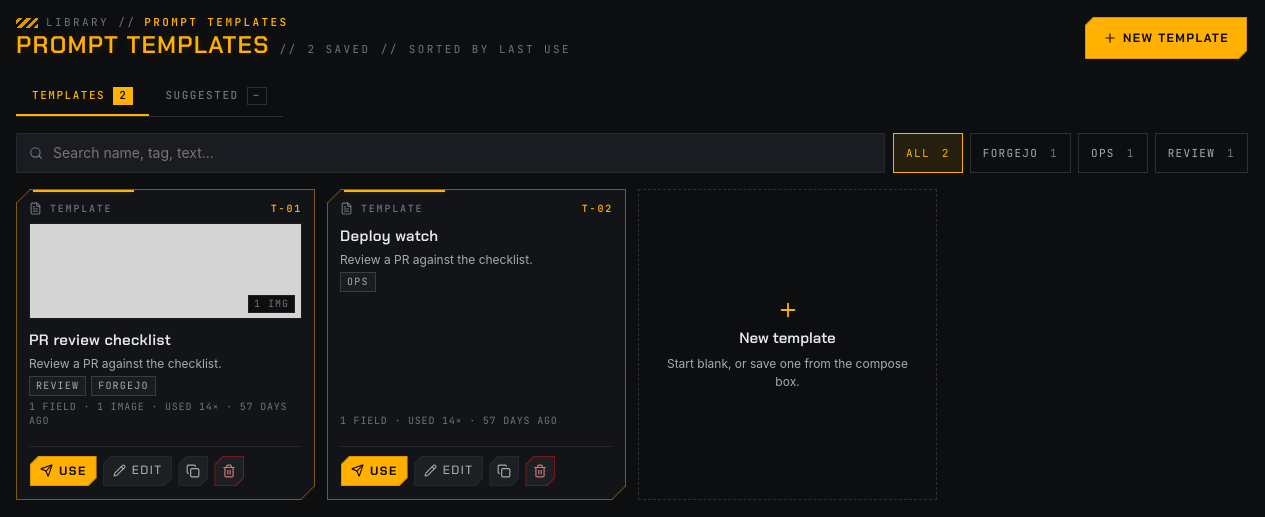
Test: a tag chip and the search each narrow the grid; the chips keep their counts
Check: the list named "templates" is shown, box [16,189,937,500]
Click the button "ops 1". click: (1113, 153)
box: [1078,133,1148,173]
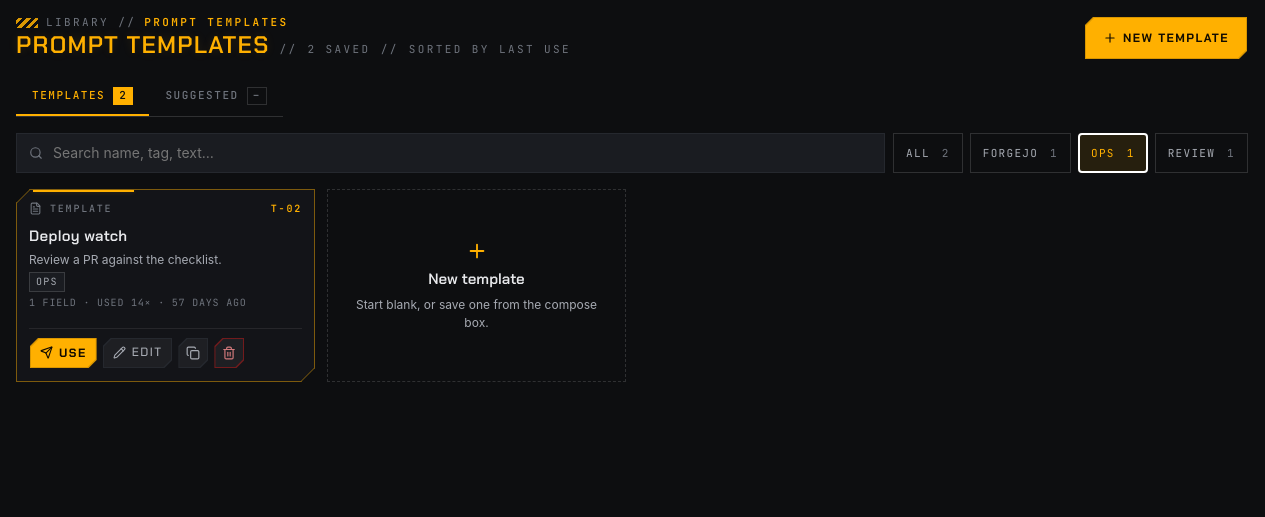
Check: the link "Deploy watch" is shown, box [29,226,128,246]
Check: the button "review 1" is shown, box [1155,133,1248,173]
Click the button "ops 1". click: (1113, 153)
box: [1078,133,1148,173]
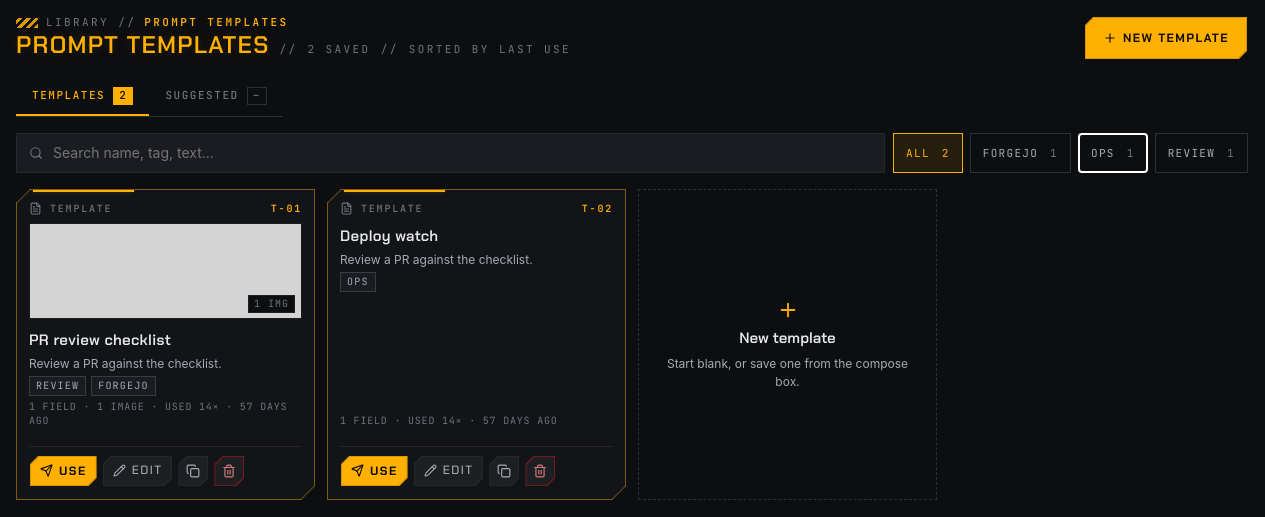
# Both fixtures share a body, so search on the one thing that differs: the name.
Type "pr review" into the search field named "search templates". click: (462, 153)
box: [51,142,872,164]
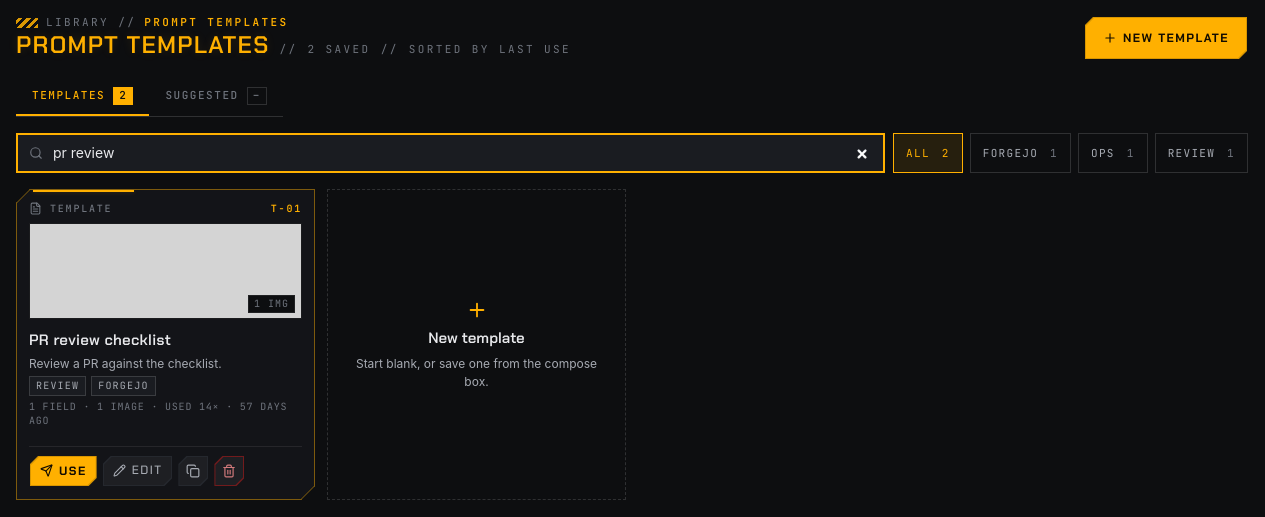
Check: the link "PR review checklist" is shown, box [29,330,171,350]
Replace the text in the search field named "search templates" with "zzz". click: (462, 153)
box: [51,142,872,164]
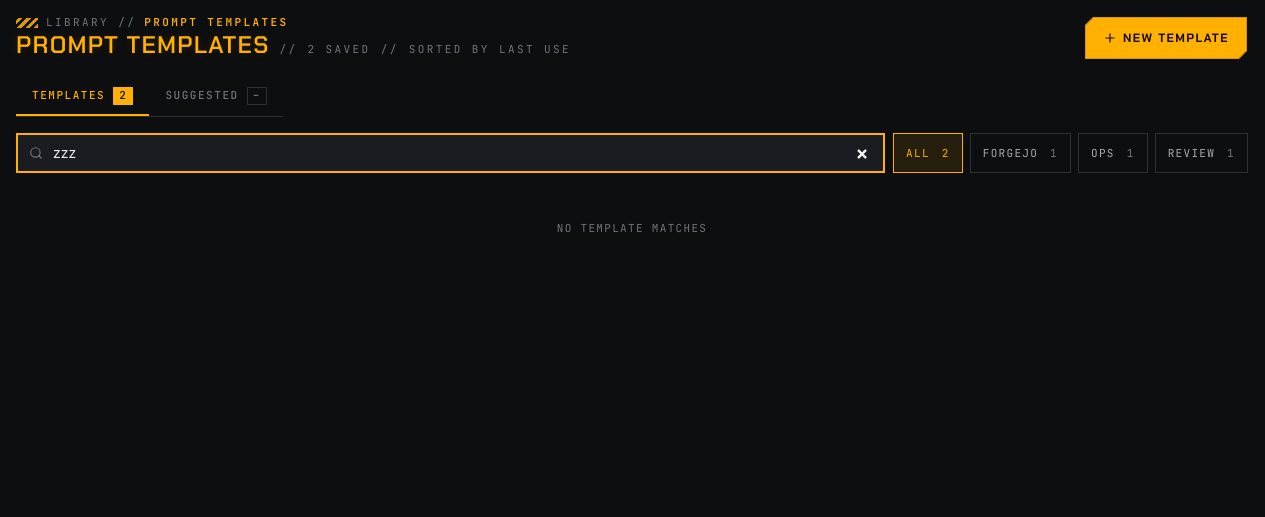
Check: the text "No template matches" is shown, box [557,221,707,235]
